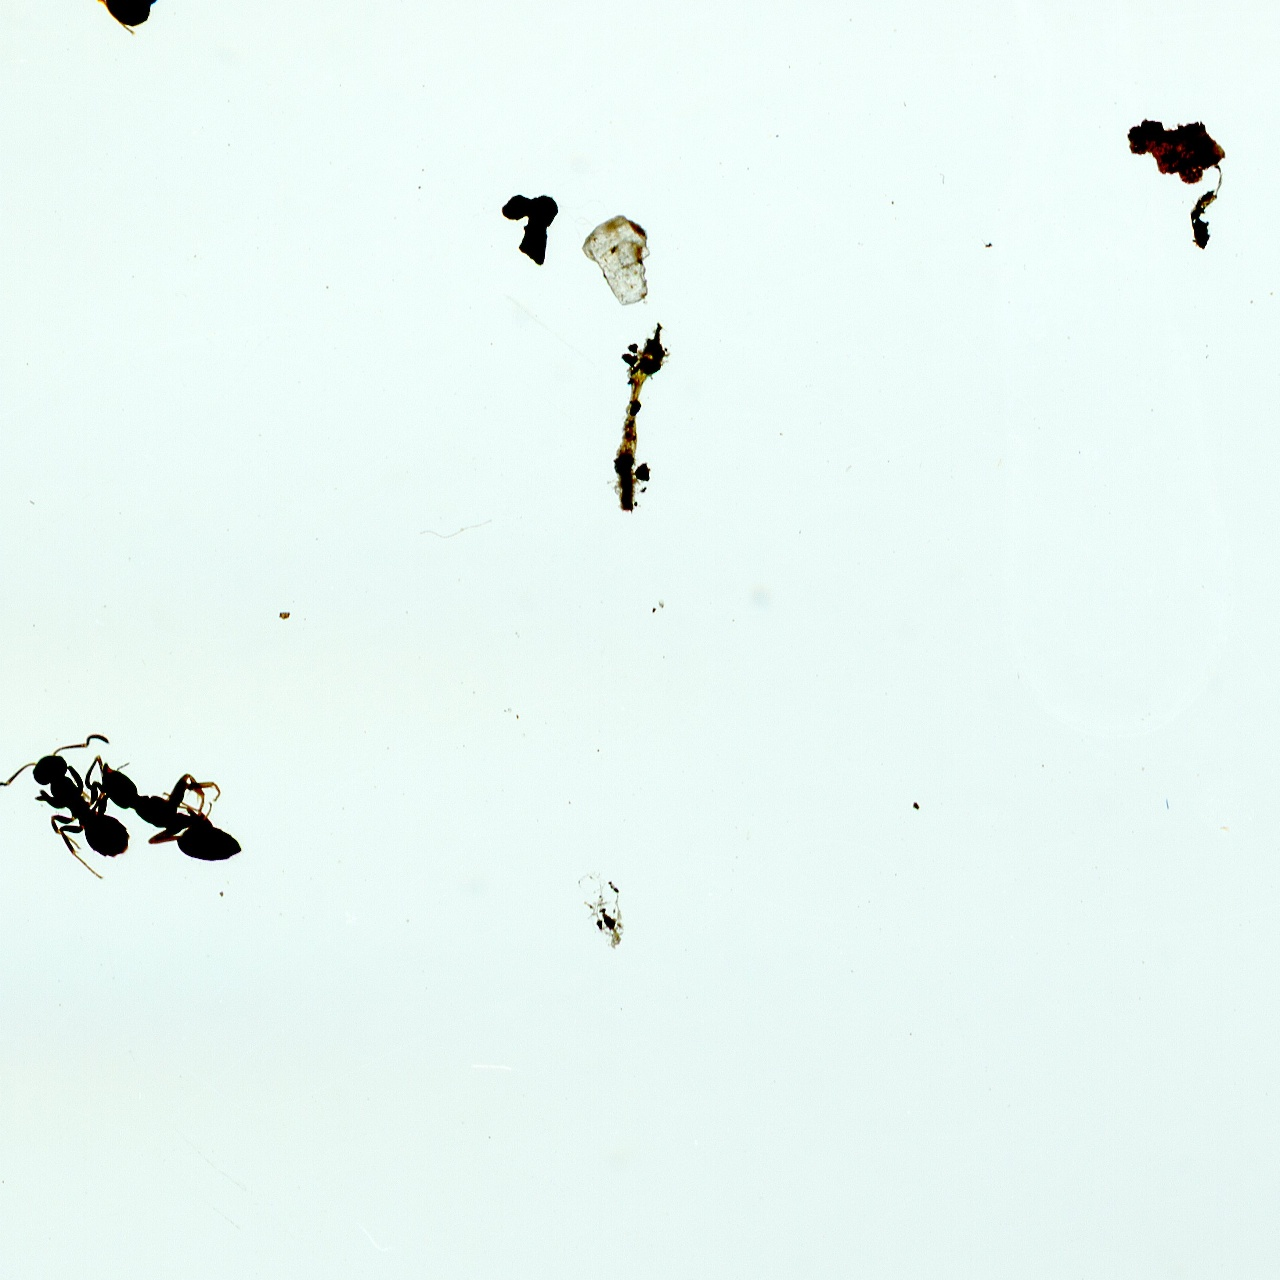arthropod: (0, 705, 129, 885), (93, 739, 246, 871), (25, 0, 189, 36)
